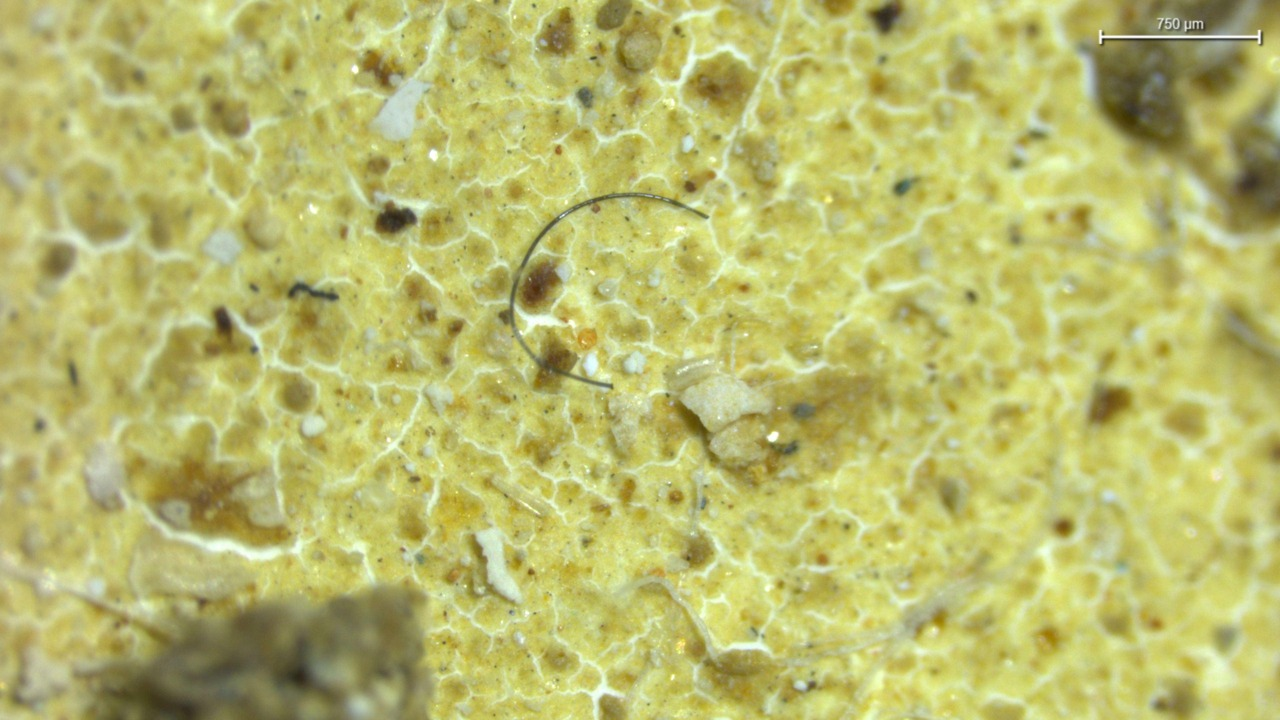microplastic_fragment: (680, 374, 770, 433), (475, 527, 522, 604)
